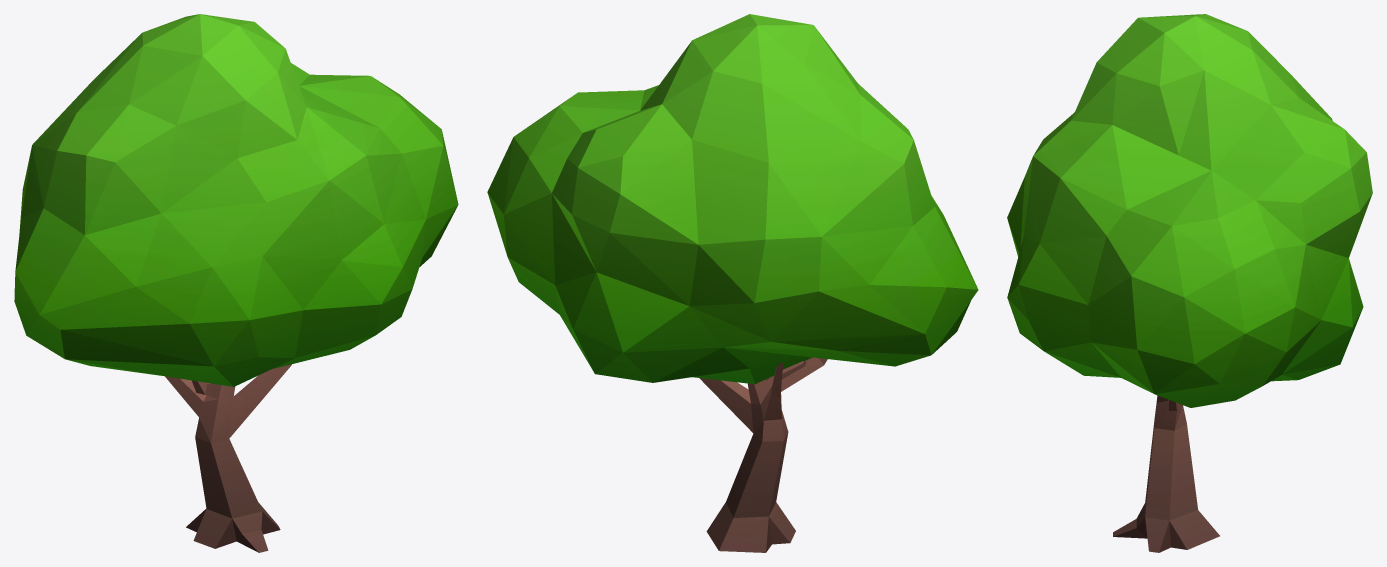
Rendered from tree2.glb.
The picture shows the model from 3 angles, left to right: view 1: azimuth 30°, elevation 25°; view 2: azimuth 150°, elevation 25°; view 3: azimuth 270°, elevation 25°; orthographic projection. The views are drawn at different scales.
Parts seen in each view (by area): view 1: tree2; view 2: tree2; view 3: tree2.
Boxes of the visible parts, x1=… form: tree2: x1=14, y1=14, x2=458, y2=552; tree2: x1=487, y1=14, x2=978, y2=552; tree2: x1=1007, y1=14, x2=1372, y2=552.
Bounding box in the file's own units: 7.69 × 8.69 × 5.67.
1 material, 1 textured.
